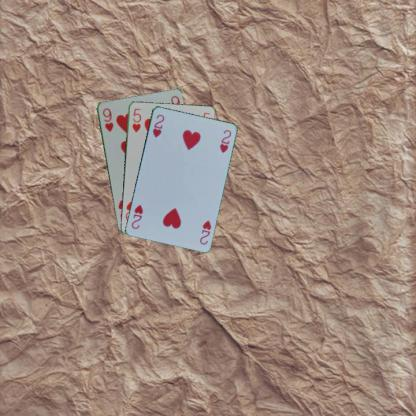2h: (197, 217, 212, 246), (150, 112, 165, 138)
5h: (130, 106, 142, 133)
9h: (100, 105, 114, 133)
